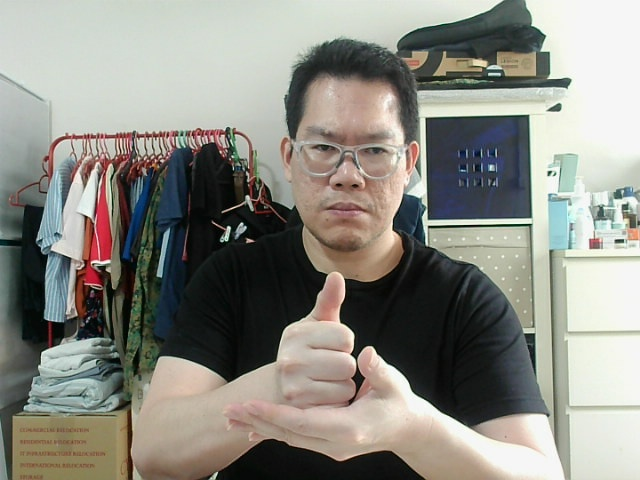help: (267, 280, 347, 411)
